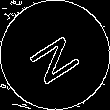N_NE: (23, 25, 87, 85)
